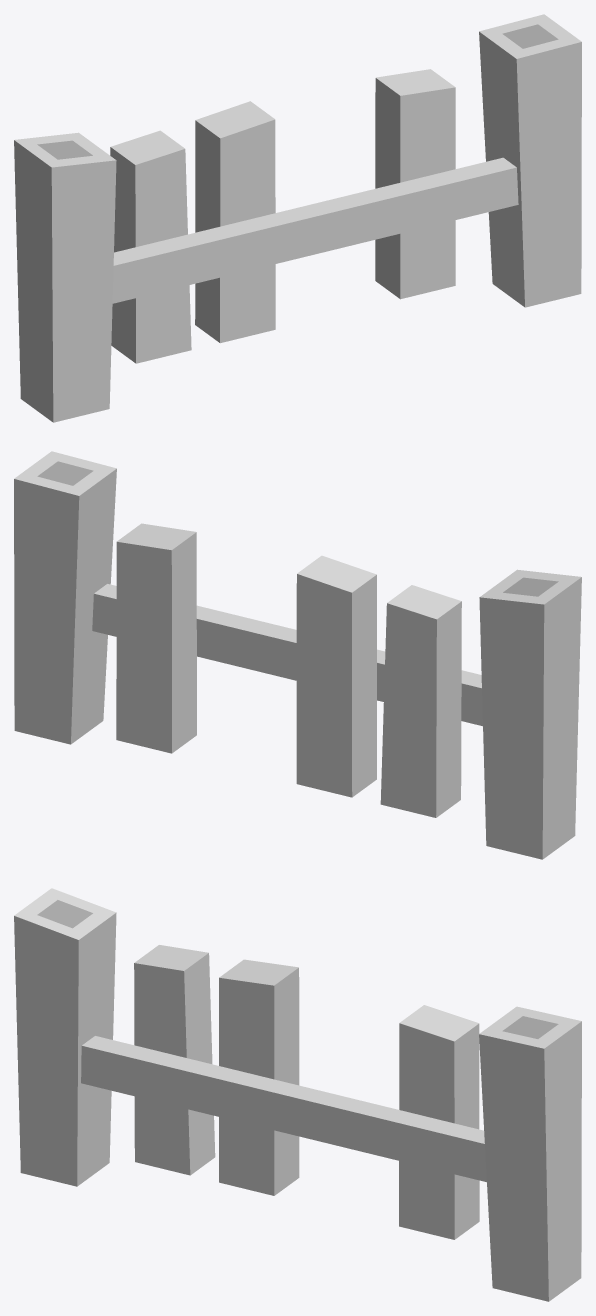
The model's file is WhiteFence_01_alt1.fbx.
3 renders of one model, top to bottom at view 1: azimuth 30°, elevation 25°; view 2: azimuth 150°, elevation 25°; view 3: azimuth 330°, elevation 25°, orthographic.
Parts seen in each view (by area): view 1: WhiteFence_01_alt1; view 2: WhiteFence_01_alt1; view 3: WhiteFence_01_alt1.
Boxes of the visible parts, x1,y1,x2,y2 form: WhiteFence_01_alt1: (14,14,581,422); WhiteFence_01_alt1: (14,451,581,859); WhiteFence_01_alt1: (14,888,581,1301).
Size of the model in its own units: 7.46 by 3.46 by 1.05.
